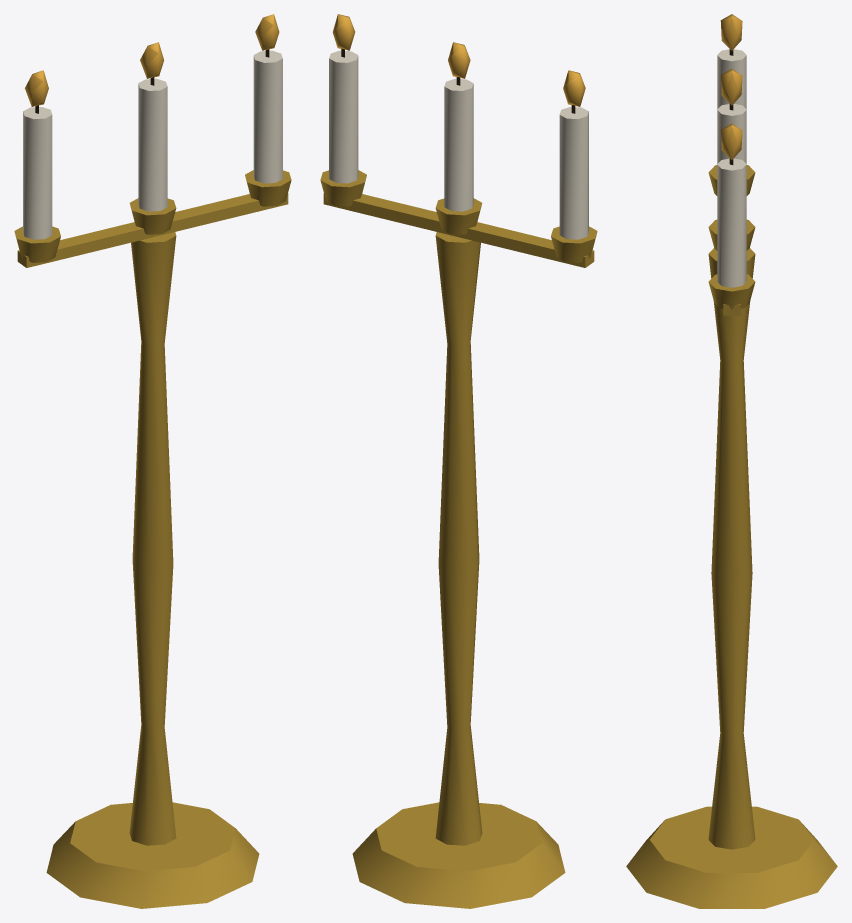
File: candle_stand.glb
The picture shows the model from 3 angles, left to right: view 1: azimuth 30°, elevation 25°; view 2: azimuth 150°, elevation 25°; view 3: azimuth 270°, elevation 25°; orthographic projection. The views are drawn at different scales.
Visible parts, largest first — view 1: furniture-candle_stand; view 2: furniture-candle_stand; view 3: furniture-candle_stand.
Part boxes in pixels (<box>): furniture-candle_stand: <box>14,14,291,908</box>; furniture-candle_stand: <box>320,14,597,908</box>; furniture-candle_stand: <box>626,14,837,908</box>.
Bounding box in the file's own units: 0.52 × 1.5 × 0.36.
